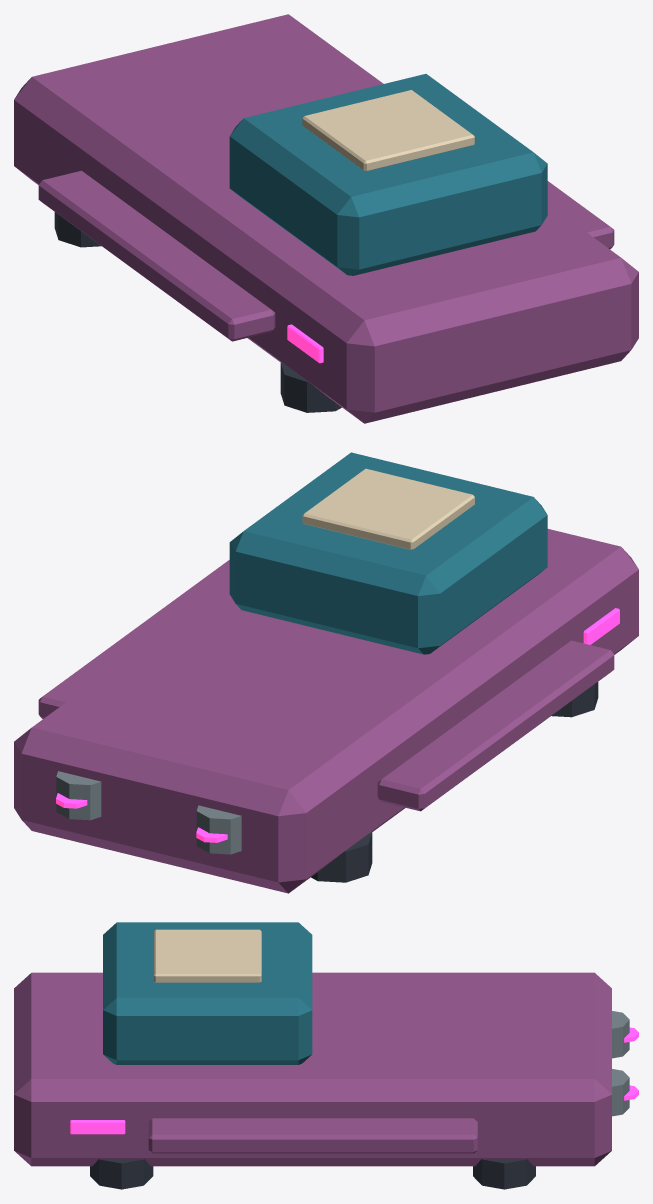
The model's file is vehicles_008_seed11.glb.
3 views of the same model, one above another, from view 1: azimuth 30°, elevation 25°; view 2: azimuth 150°, elevation 25°; view 3: azimuth 270°, elevation 25° (orthographic). The views are drawn at different scales.
Visible parts, largest first — view 1: vehicles_008_seed11; view 2: vehicles_008_seed11; view 3: vehicles_008_seed11.
Boxes of the visible parts, bbox=[...] form: vehicles_008_seed11: bbox=[14, 14, 638, 423]; vehicles_008_seed11: bbox=[14, 452, 638, 893]; vehicles_008_seed11: bbox=[14, 922, 638, 1189].
Bounding box in the file's own units: 2.88 × 1.49 × 4.76.
